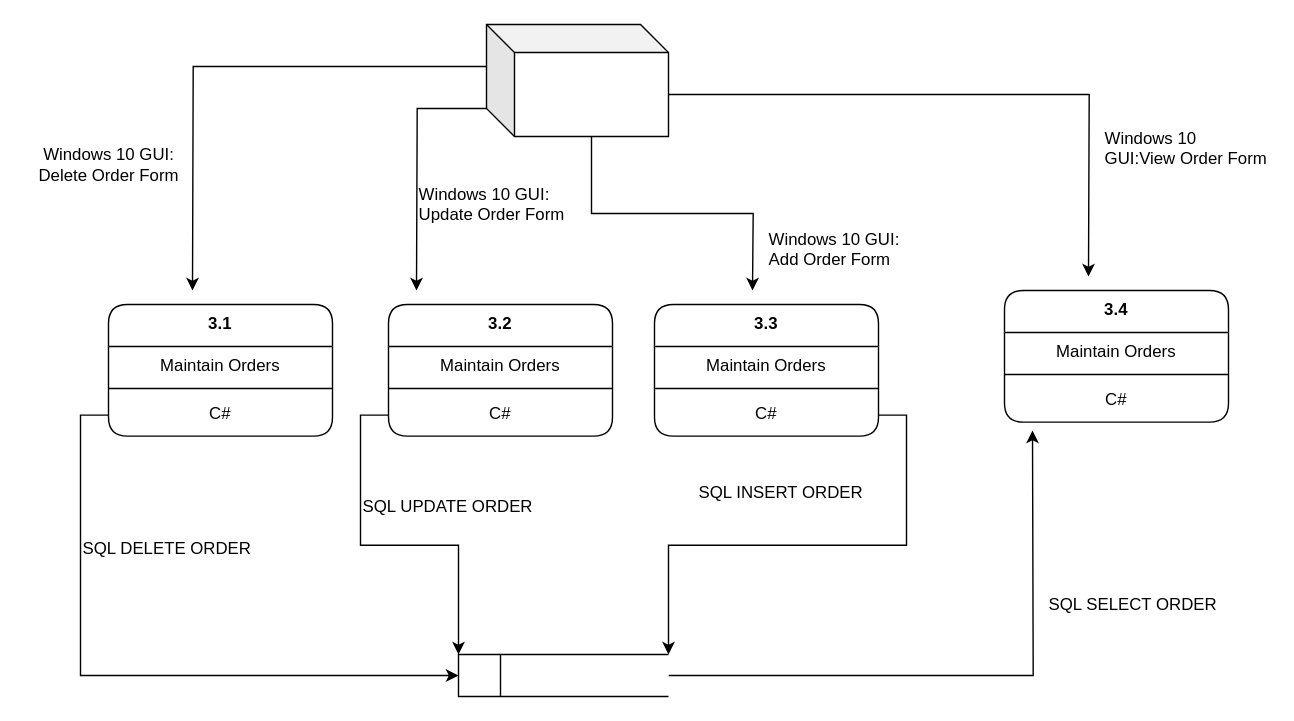
Image size: 1294x721. Some labels were removed from this diagram. The box of each missing label's shape, as (x1, y1, x2, y2) in pixels:
MSAccess:Orders: (457, 653, 668, 696)
Supervisor: (485, 23, 668, 136)
